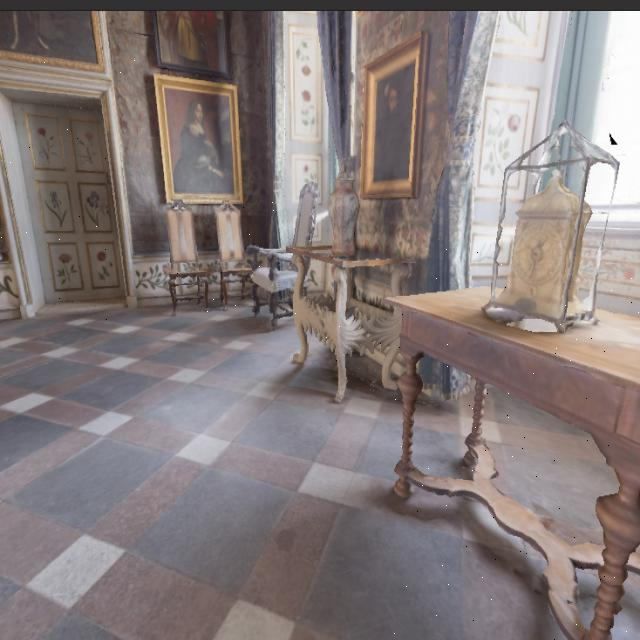chair: (252, 185, 331, 316), (157, 196, 213, 330), (212, 196, 258, 323)
door: (19, 108, 117, 304)
door-frame: (0, 46, 143, 344)
table: (393, 245, 640, 640), (296, 238, 427, 390)
